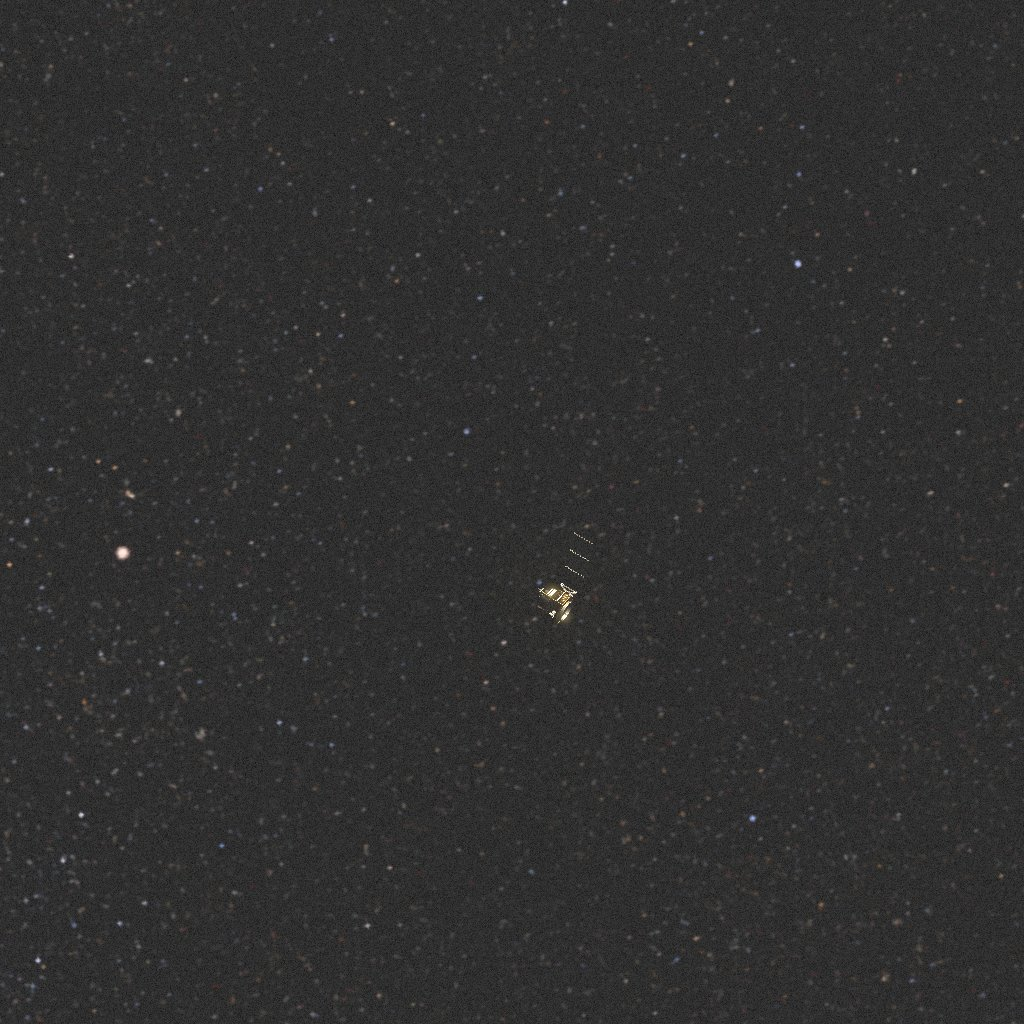earth_observation_sat_1: (536, 533, 593, 624)
